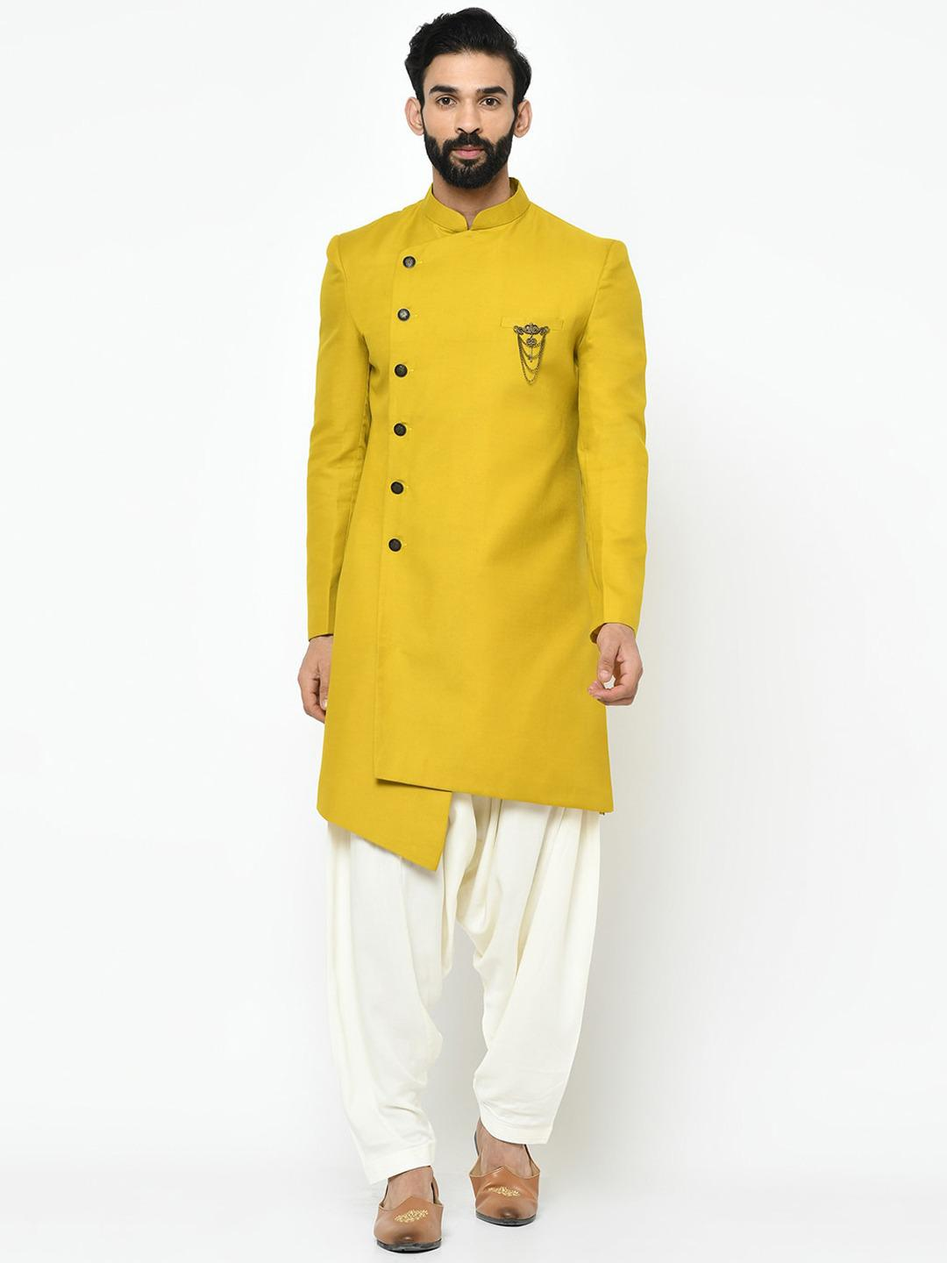Plain Sherwani: (305, 180, 649, 878)
